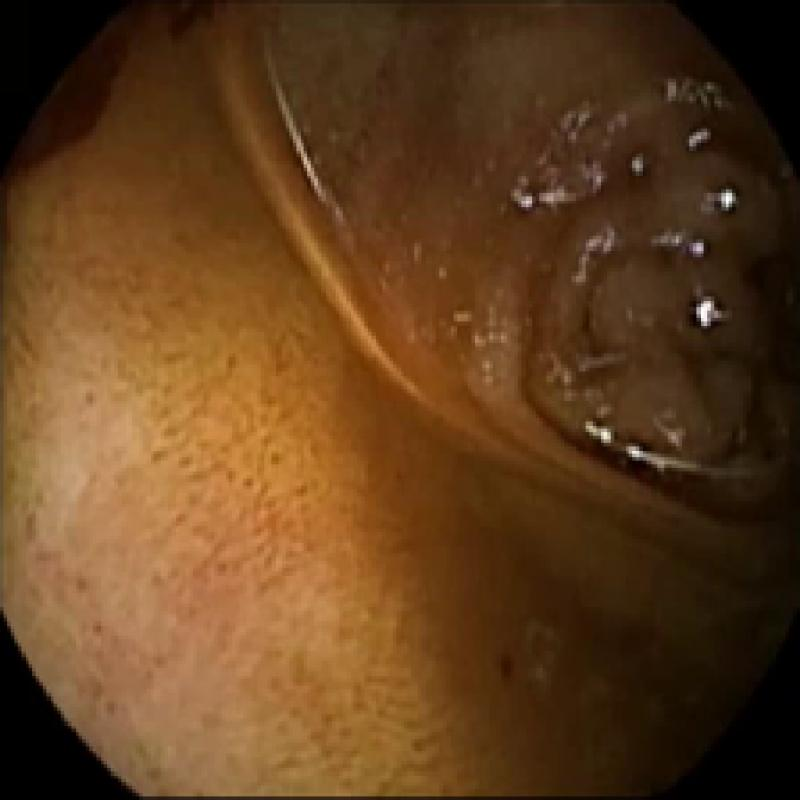bleeding: (7, 0, 182, 164)
